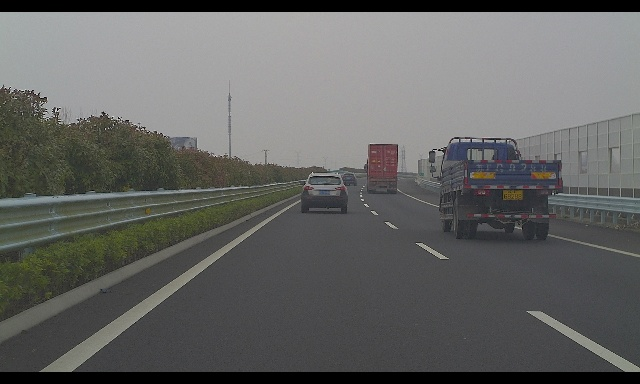car: (299, 172, 350, 214), (341, 172, 357, 186)
truck: (428, 137, 563, 240), (364, 143, 398, 194)
